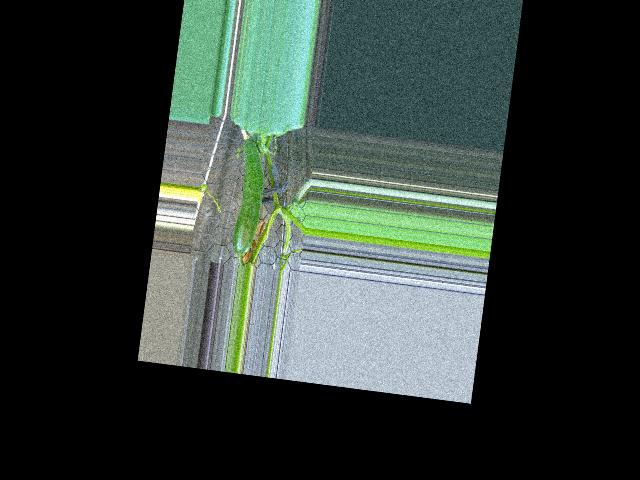cucumber: (230, 139, 270, 255)
